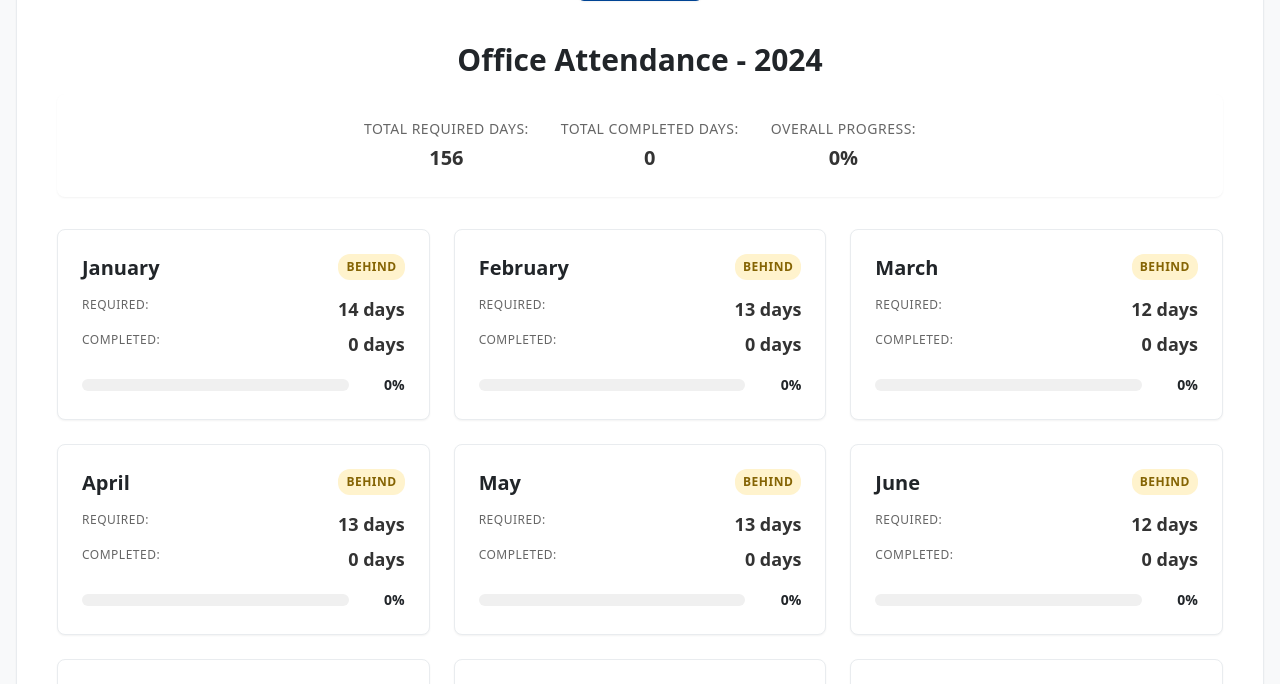
Test: Integration Tests - Complete User Flows › Year View → Month View Navigation › should navigate between year and month views correctly
(page scrolled)
Check: the heading "Office Attendance - 2024" is shown, box [457,38,823,80]
Navigate to month view by clicking on a month
Click the button with aria-label "view details for march" at (907, 267), box [850,229,1223,420]
(page scrolled)
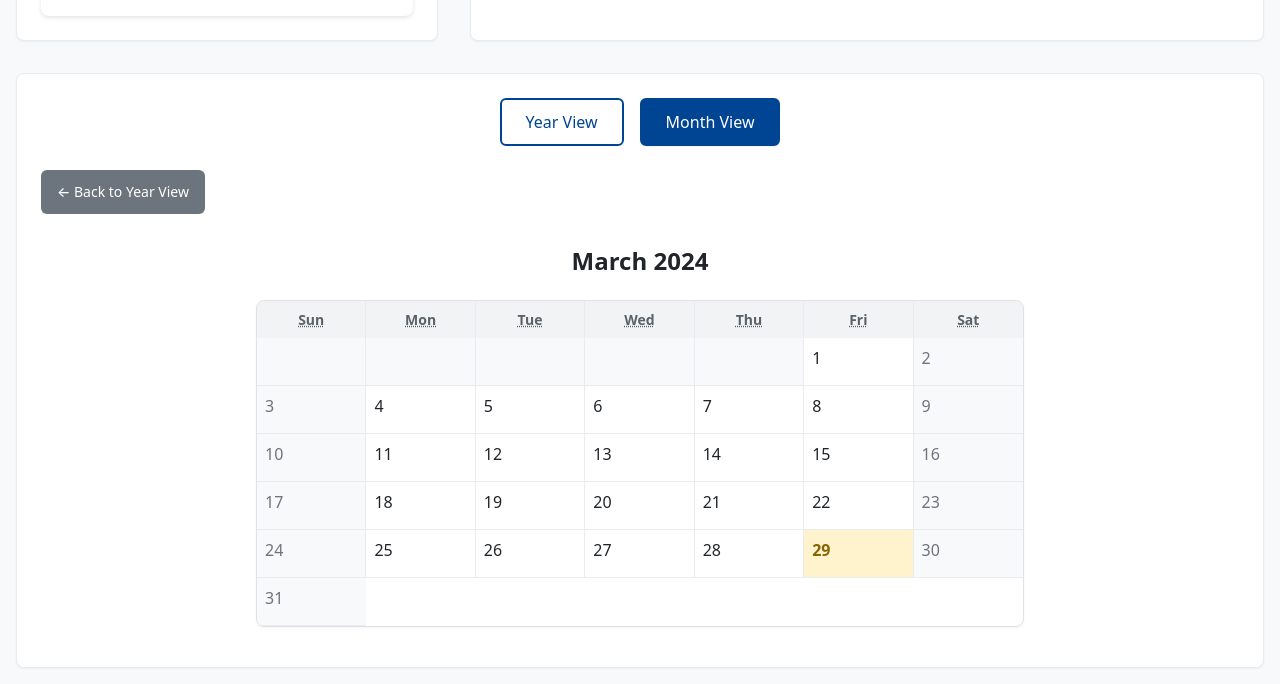
Check: the heading "March 2024" is shown, box [572,244,708,276]
Check: the button "← Back to Year View" is shown
Navigate back to year view
Click the button "← Back to Year View" at (123, 192), box [41,170,205,214]
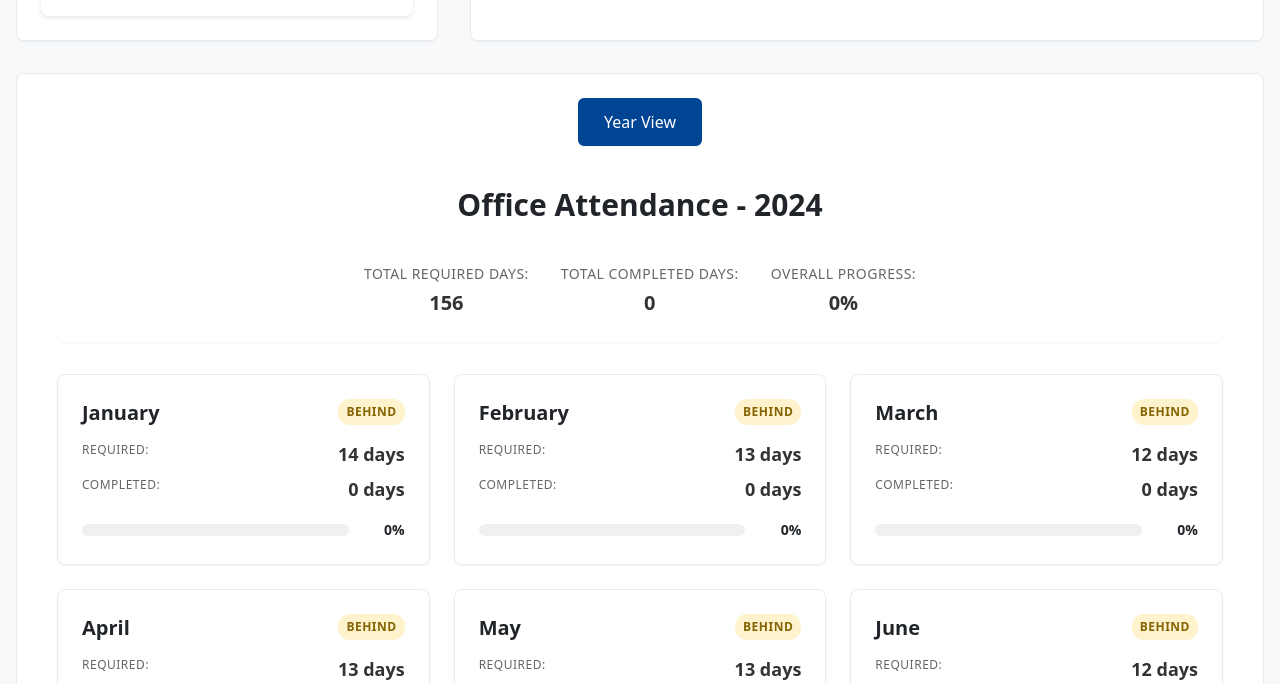
Check: the heading "Office Attendance - 2024" is shown, box [457,184,823,224]
